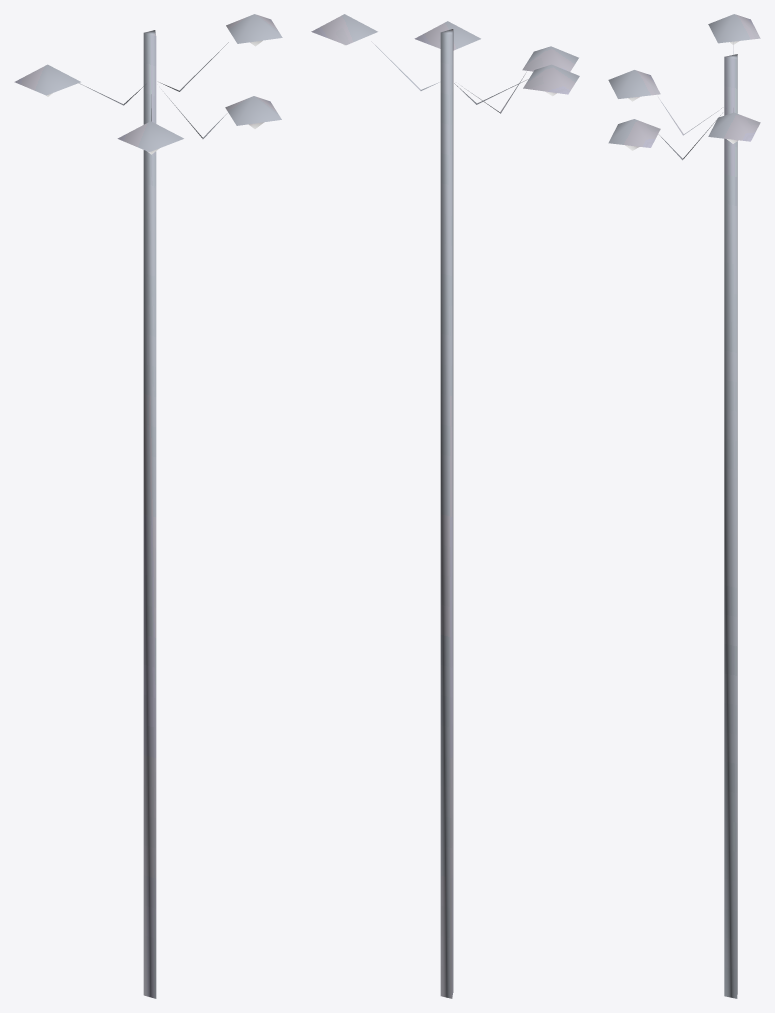
Rendered from frn_all_streetlamp_m_s2_l3.fbx.
3 views of the same model, side by side, from view 1: azimuth 30°, elevation 25°; view 2: azimuth 150°, elevation 25°; view 3: azimuth 270°, elevation 25° (orthographic). The views are drawn at different scales.
Parts seen in each view (by area): view 1: mesh_node; view 2: mesh_node; view 3: mesh_node.
Boxes of the visible parts, left/top/right/bottom form: mesh_node: left=14, top=14, right=282, bottom=998; mesh_node: left=311, top=14, right=579, bottom=998; mesh_node: left=608, top=14, right=760, bottom=998.
Size of the model in its own units: 8.36 by 29.93 by 4.4.
